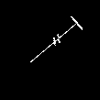treble_crochet: (31, 17, 81, 61)
